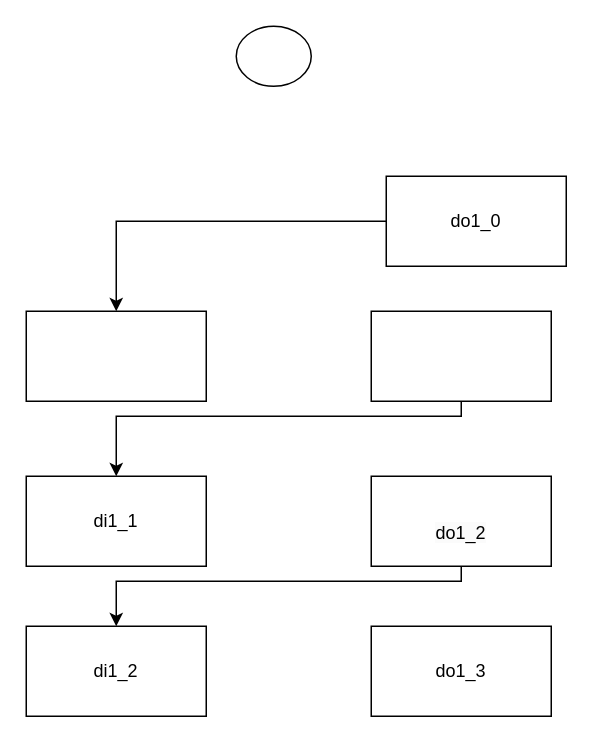
Some shapes in this 593 by 743 pixel diagram are drawn without their labels. Each missing label, with the centre of its shape:
di1_0: the point at 115,355
do1_1: the point at 460,355
